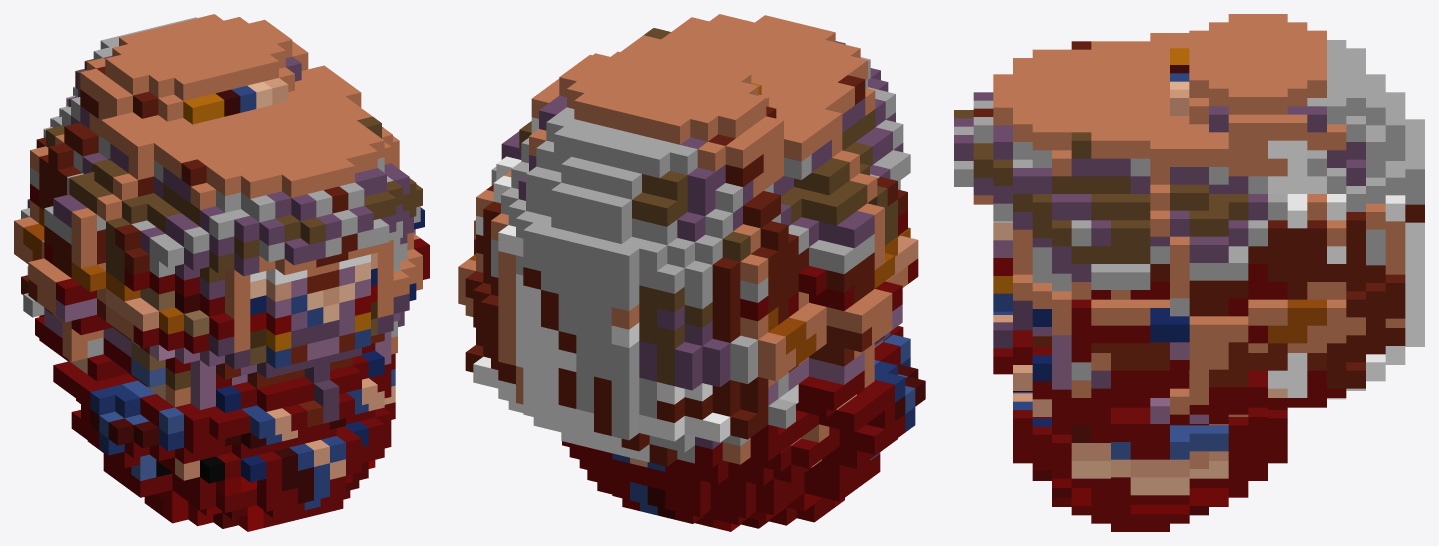
Rendered from Icon_002_03.obj.
3 views of the same model, side by side, from view 1: azimuth 30°, elevation 25°; view 2: azimuth 150°, elevation 25°; view 3: azimuth 270°, elevation 25° (orthographic). The views are drawn at different scales.
Size of the model in its own units: 2.2 by 2.4 by 2.4.
